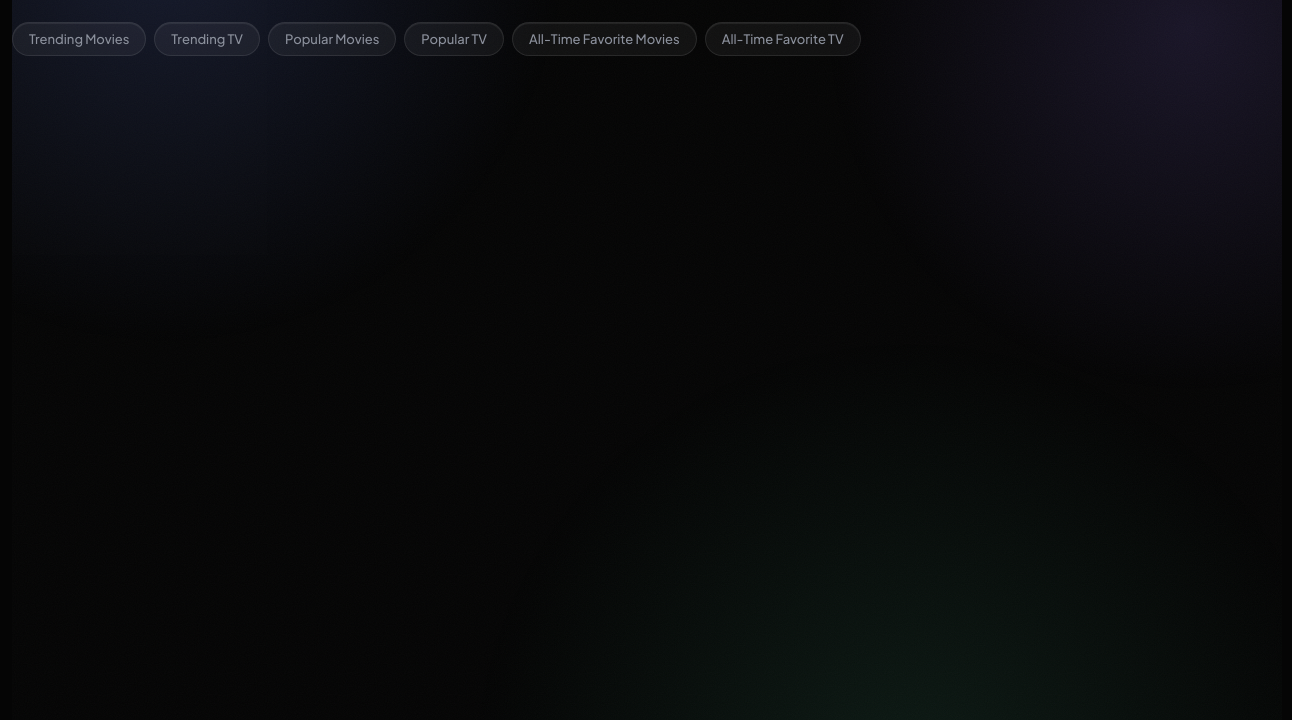
Scenario: DiscoverSection › clicking a badge shows only that list and fetches only it
The width and height of the screenshot is (1292, 720).
What coordinates should you click on to do the following:
click the tab "Trending Movies"
I would click on:
 (79, 39)
Its box is [12, 22, 146, 56].
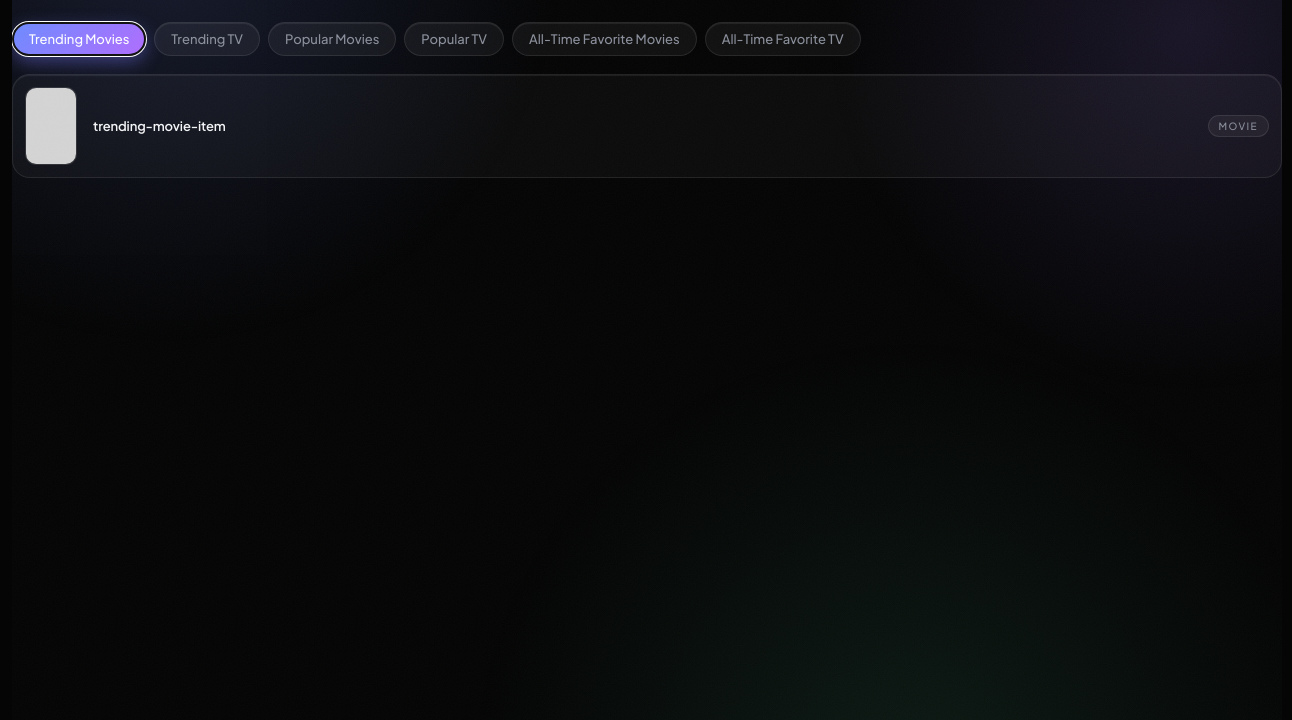
Result: the text "trending-movie-item" is shown at [93, 118, 226, 134]
